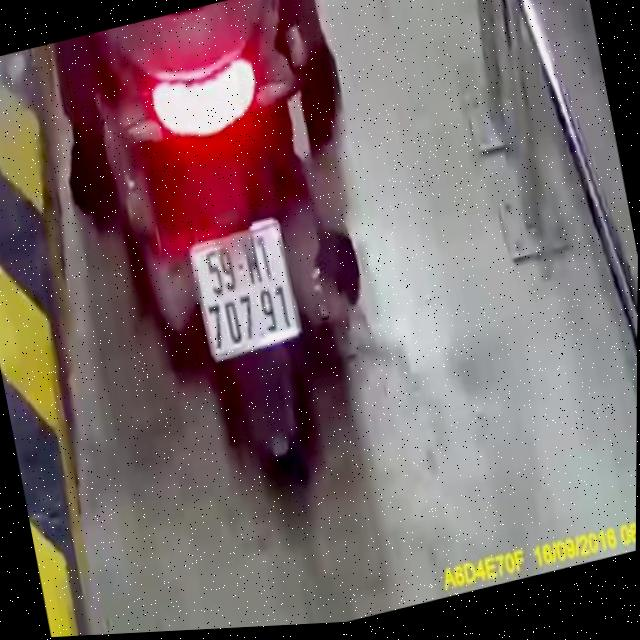motorcycle: (78, 0, 399, 521)
plate: (178, 211, 312, 374)
